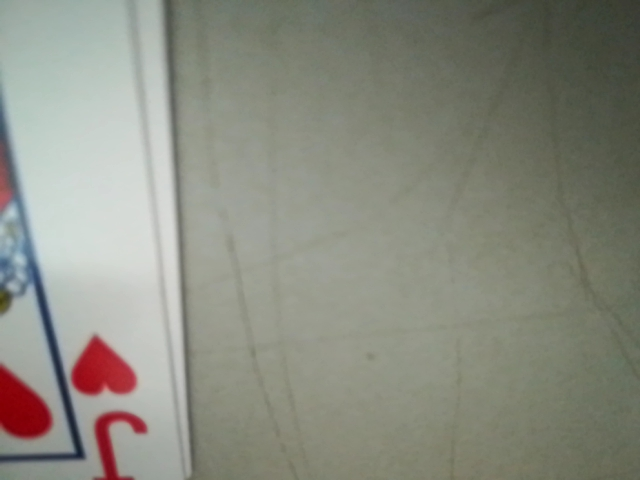hx j: (68, 330, 162, 480)
